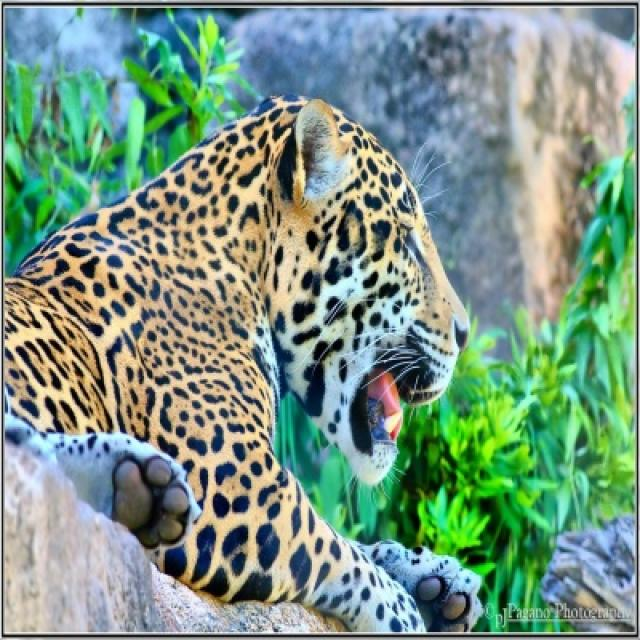Jaguar: (5, 98, 480, 634)
